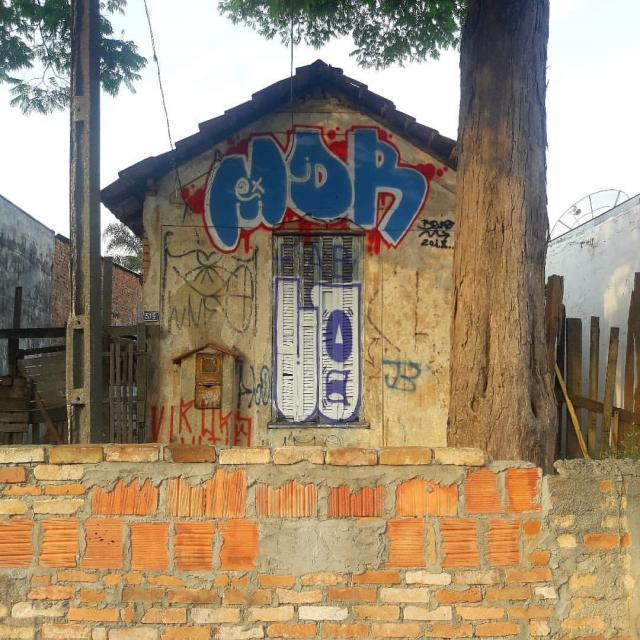-: (212, 142, 412, 228), (271, 274, 363, 426), (381, 352, 424, 398), (418, 215, 458, 250)
